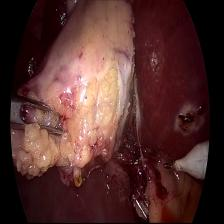Grasper: (7, 76, 70, 134)
Hook: (161, 136, 212, 187)
